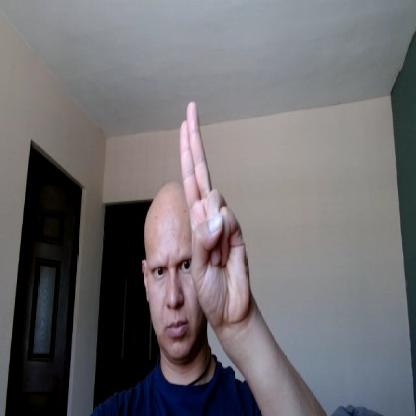U: (179, 99, 248, 325)
